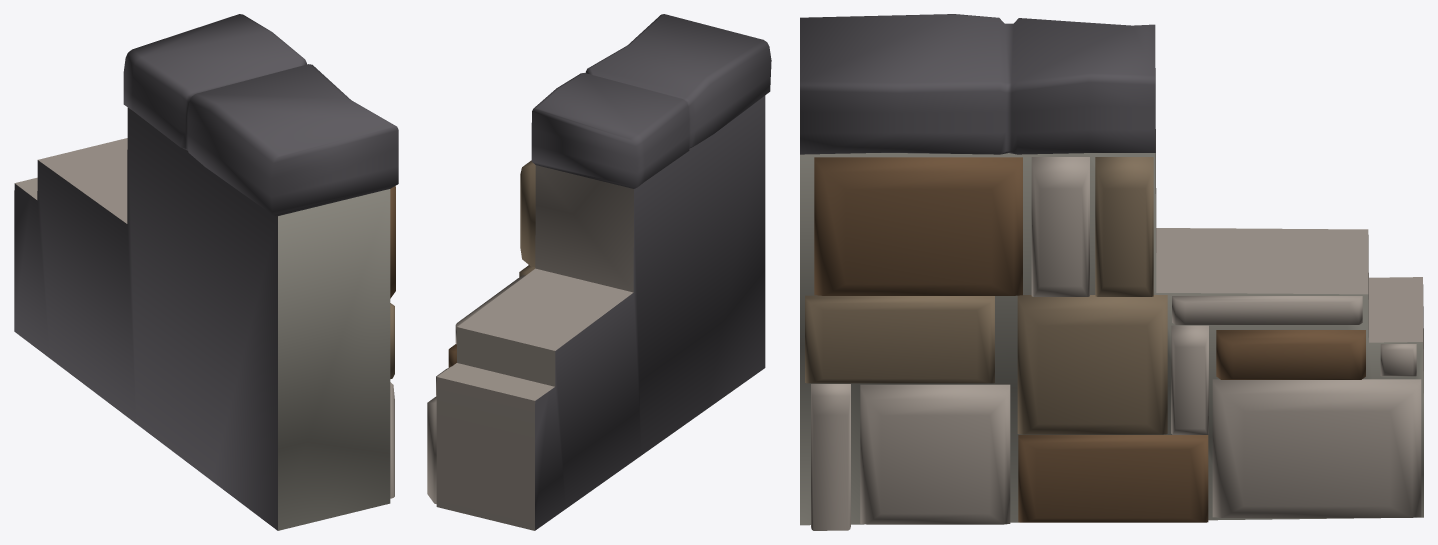
Rendered from SM_SkyIslands_StraightLong_Damaged.fbx.
3 views of the same model, side by side, from view 1: azimuth 30°, elevation 25°; view 2: azimuth 150°, elevation 25°; view 3: azimuth 270°, elevation 25° (orthographic). The views are drawn at different scales.
Visible parts, largest first — view 1: SM_SkyIslands_Straight_Long_Damaged; view 2: SM_SkyIslands_Straight_Long_Damaged; view 3: SM_SkyIslands_Straight_Long_Damaged.
Part boxes in pixels (<box>): SM_SkyIslands_Straight_Long_Damaged: <box>14,14,398,530</box>; SM_SkyIslands_Straight_Long_Damaged: <box>427,14,771,530</box>; SM_SkyIslands_Straight_Long_Damaged: <box>800,14,1423,530</box>.
Bounding box in the file's own units: 516 × 1332 × 1665.
